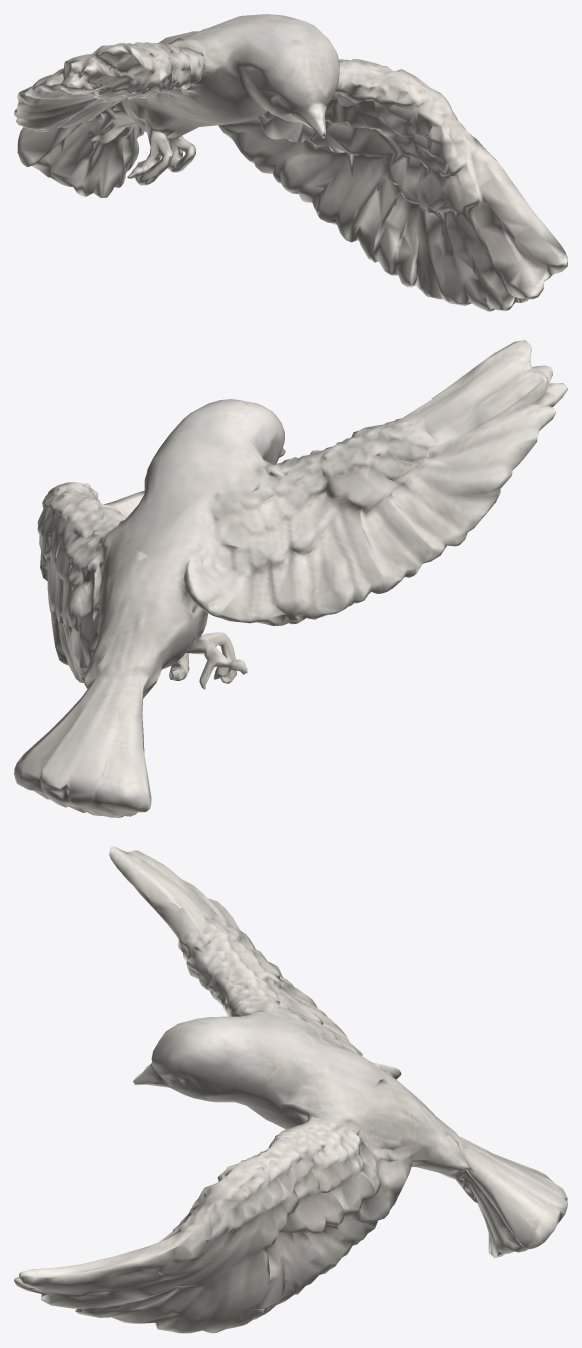
Rendered from kit_mardin_dove_flight.glb.
3 views of the same model, one above another, from view 1: azimuth 30°, elevation 25°; view 2: azimuth 150°, elevation 25°; view 3: azimuth 270°, elevation 25° (orthographic). The views are drawn at different scales.
Parts seen in each view (by area): view 1: Mesh1.0; view 2: Mesh1.0; view 3: Mesh1.0.
Boxes of the visible parts, x1,y1,x2,y2 form: Mesh1.0: (14, 14, 567, 311); Mesh1.0: (14, 340, 567, 817); Mesh1.0: (14, 846, 567, 1333).
Size of the model in its own units: 2.14 by 1.6 by 2.42.
1 material, 1 textured.
